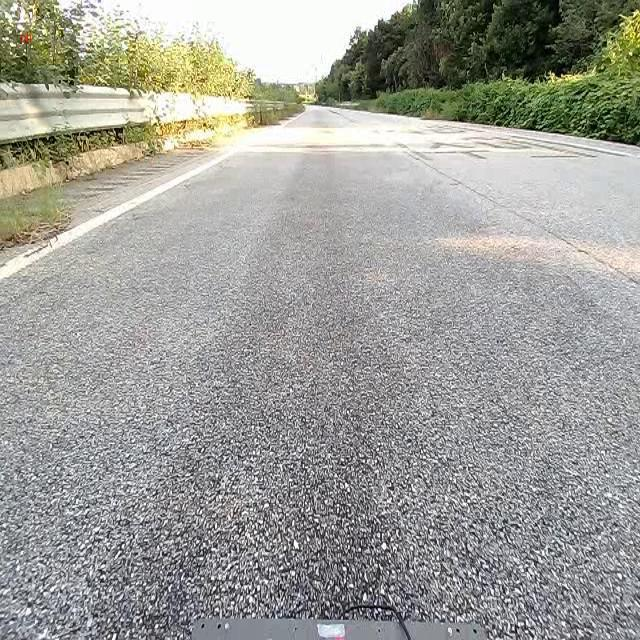Lane: (0, 140, 250, 289), (0, 146, 242, 282)
